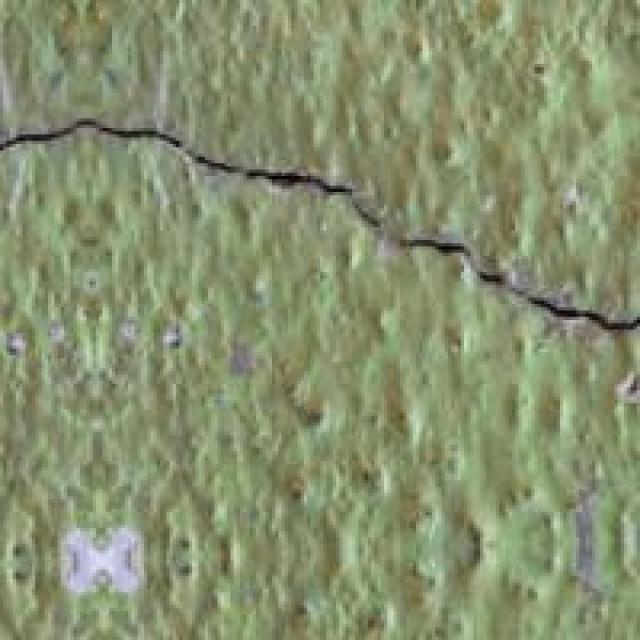crack: (0, 76, 640, 382)
